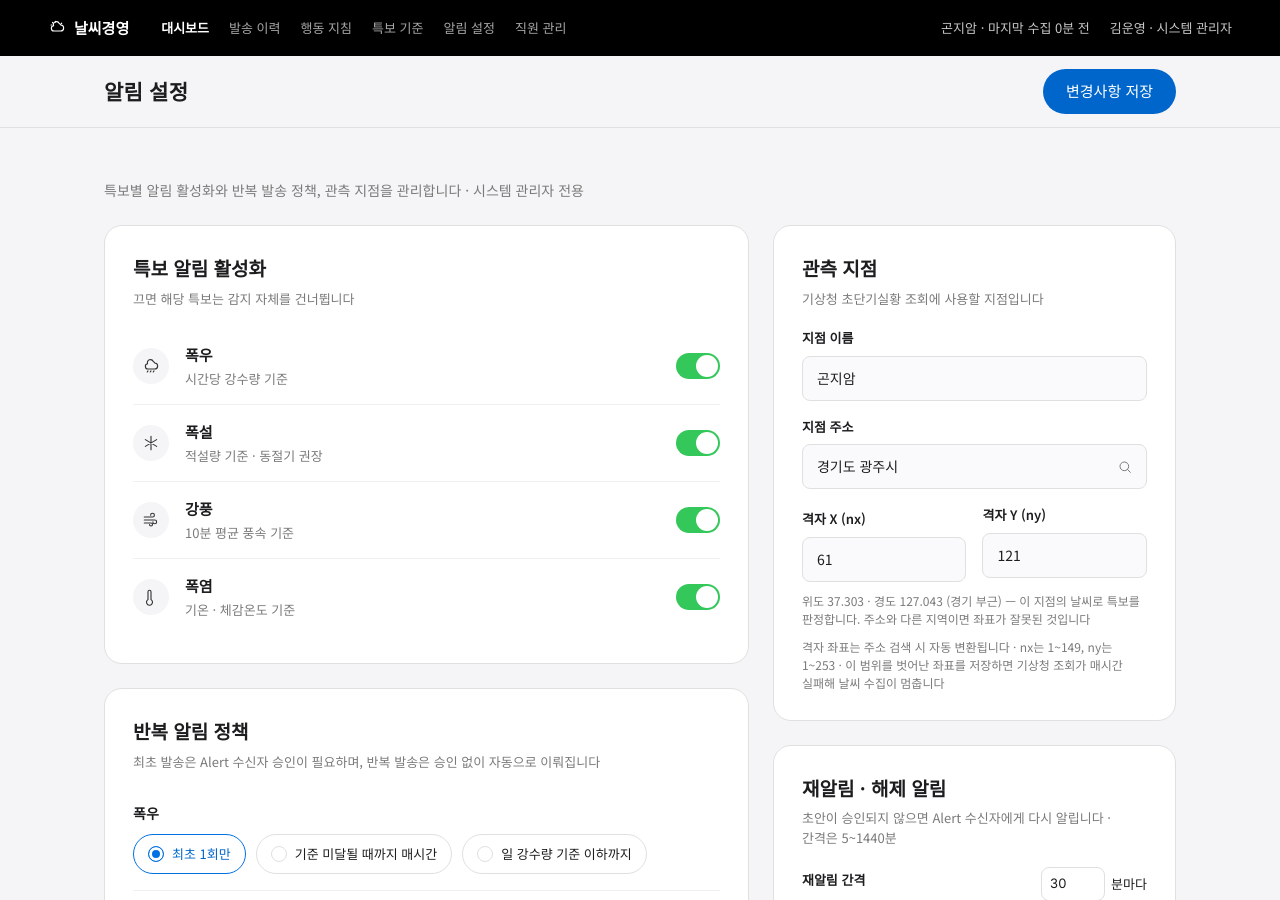
Test: Settings 관측 지점·재알림 값 검증 (W-10 · W-30) › 격자 범위를 벗어난 nx는 저장하지 않고 이유와 범위를 말한다
Expected: the heading "관측 지점" is shown, [802,254,877,281]
Replace the text in the number field labelled "격자 X (nx)" with "200" at [884, 559], box [802,536,966,582]
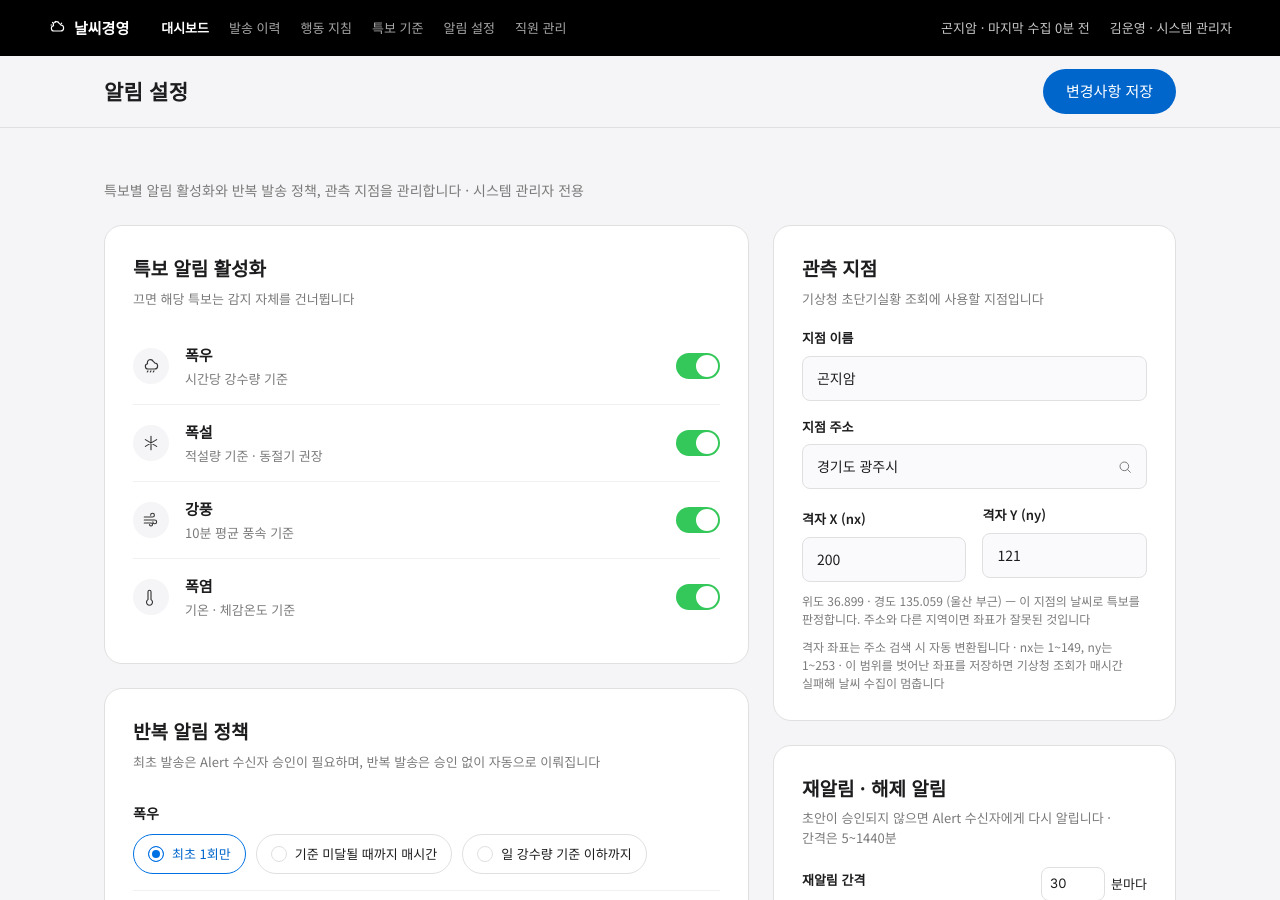
Click the button "변경사항 저장" at [1110, 92], box [1043,69,1176,114]
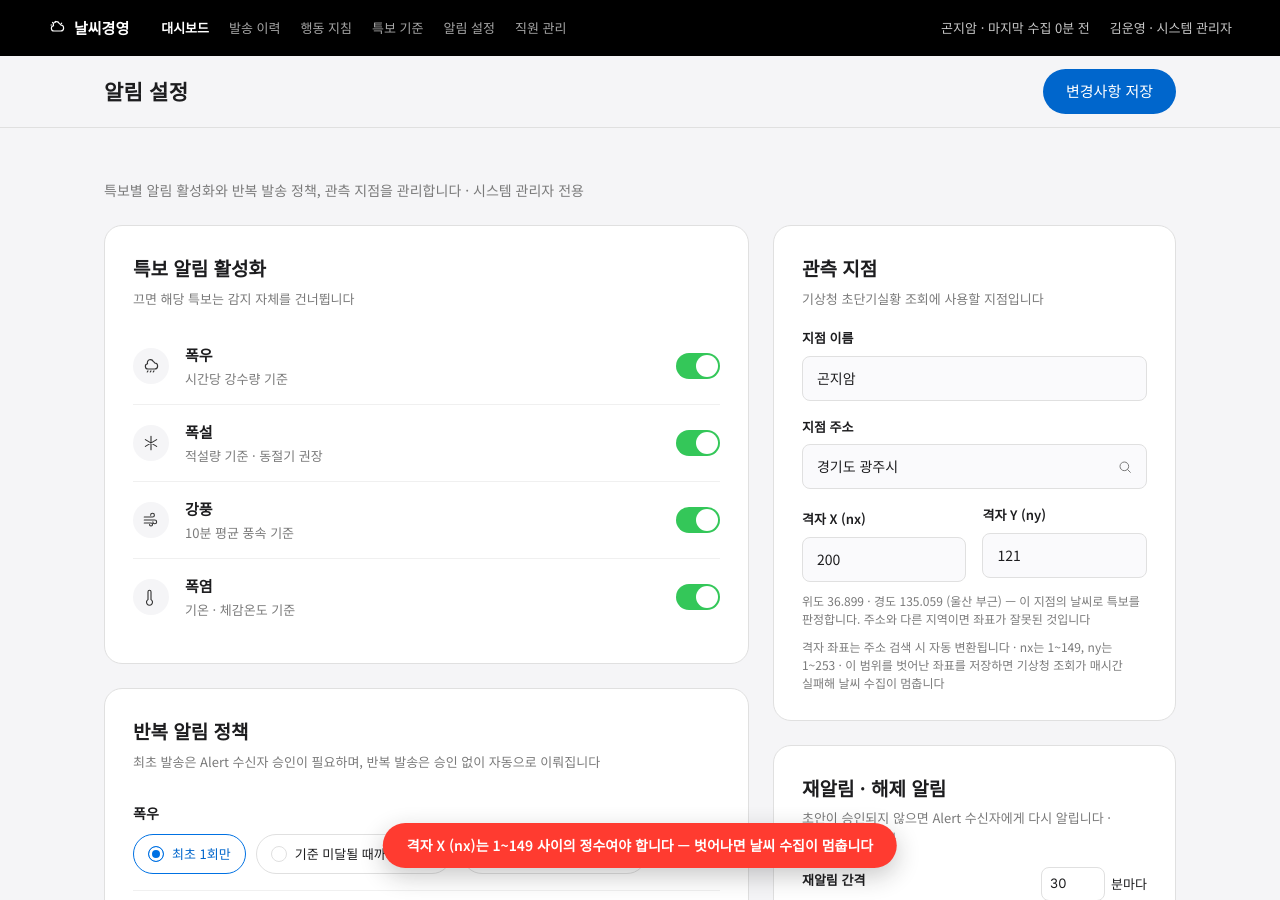
Result: the text "격자 X (nx)는 1~149 사이의 정수여야 합니다 — 벗어나면 날씨 수집이 멈춥니다" is shown at [383,823,897,868]
